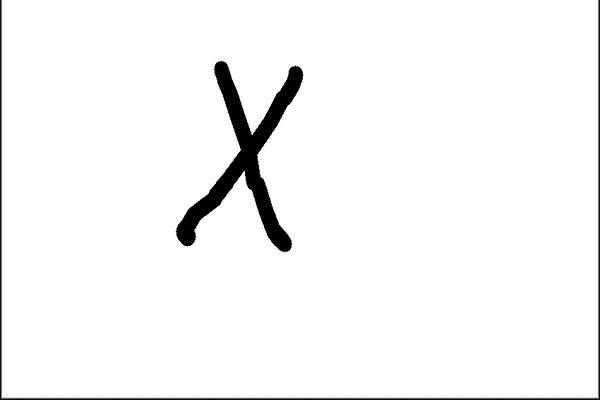X: (159, 49, 319, 261)
